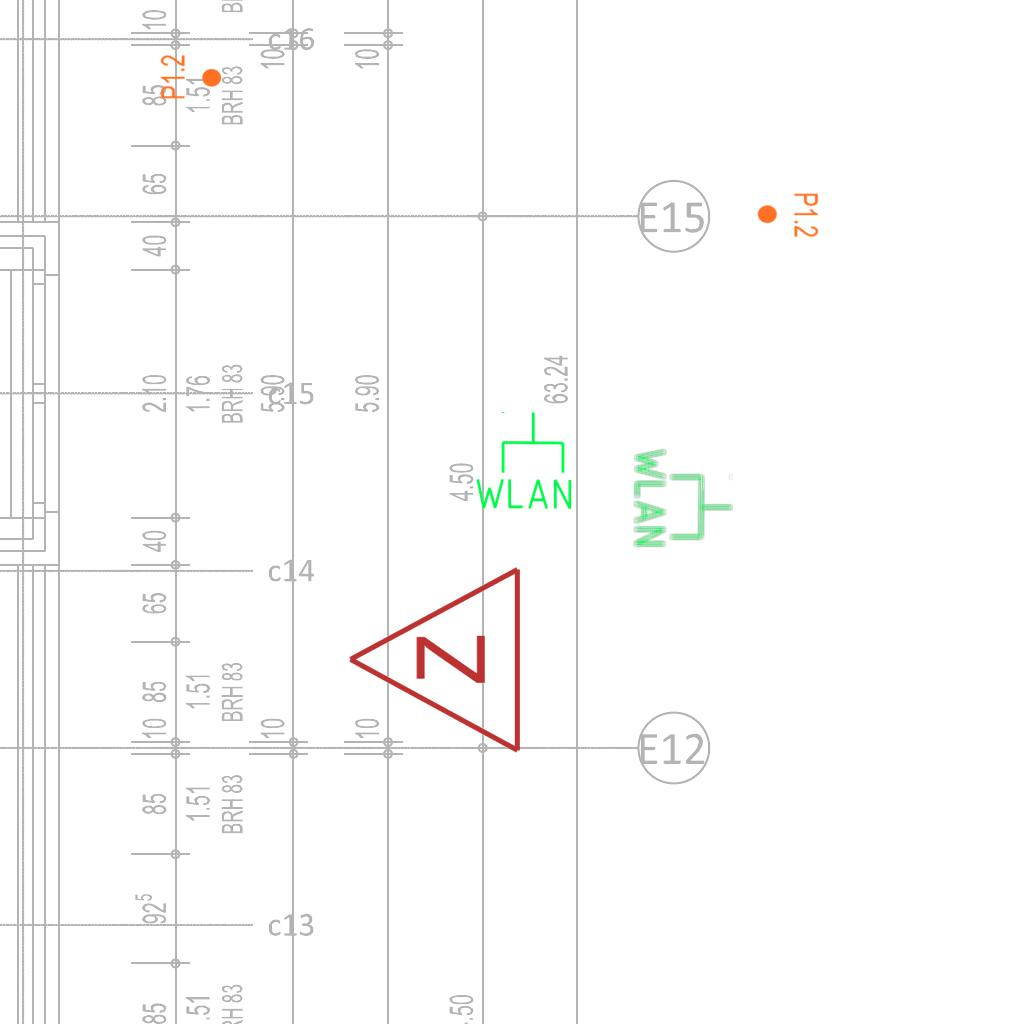Downlight_LED_Einbauleuchten_Flur: (756, 192, 820, 238), (159, 54, 223, 100)
WLAN: (631, 445, 735, 550), (471, 409, 576, 513)
Zimmersignalleuchte: (335, 564, 535, 760)
